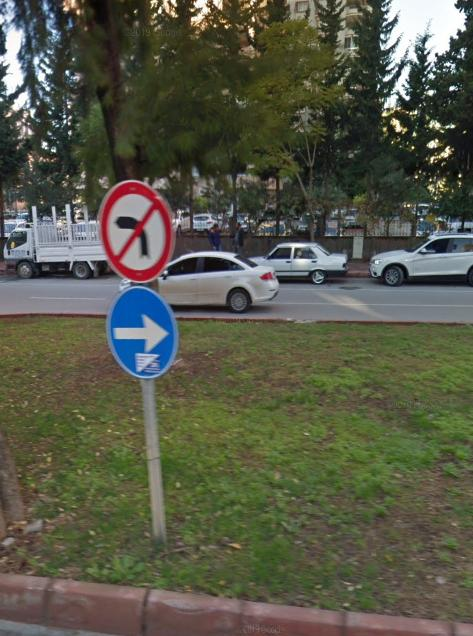leftturnsareforbidden: (99, 176, 162, 280)
turnright: (102, 281, 175, 381)
